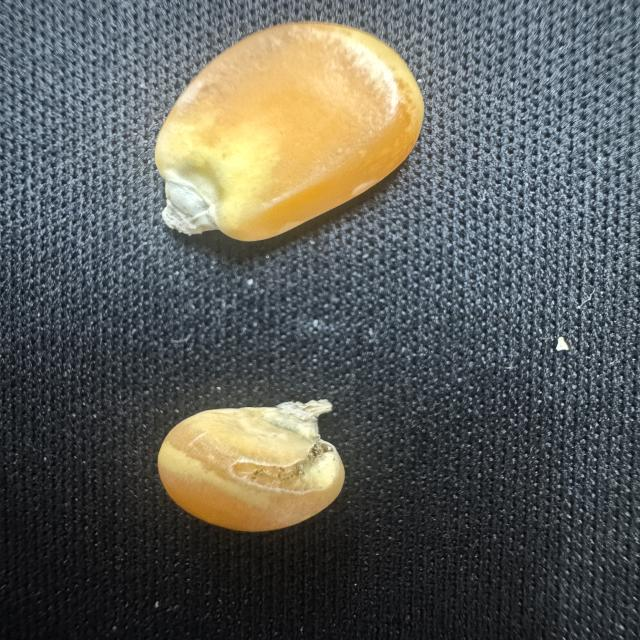Bad-Seed: (151, 389, 348, 535)
Good-Seed: (125, 16, 438, 256)
